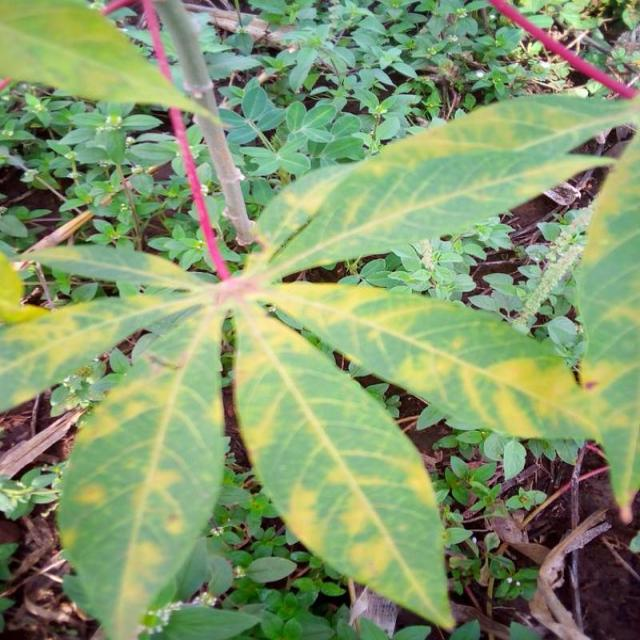cassava leaf: (2, 84, 639, 637), (250, 90, 640, 280), (233, 308, 457, 630), (54, 299, 228, 638), (1, 0, 216, 118)
